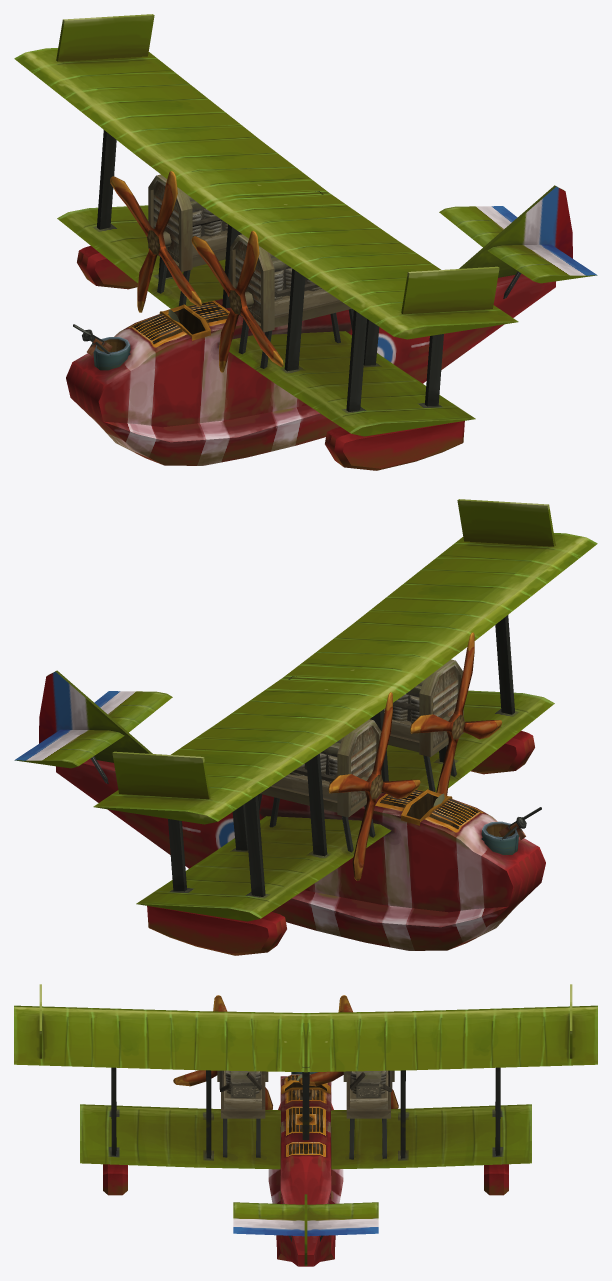
The model's file is Felixstowe_F2a_Export.FBX.
3 renders of one model, top to bottom at view 1: azimuth 30°, elevation 25°; view 2: azimuth 150°, elevation 25°; view 3: azimuth 270°, elevation 25°, orthographic. The views are drawn at different scales.
Visible parts, largest first — view 1: Plane; view 2: Plane; view 3: Plane.
Boxes of the visible parts, x1,y1,x2,y2 form: Plane: (14,14,597,470); Plane: (14,499,597,955); Plane: (14,984,597,1266).
Bounding box in the file's own units: 214 × 123 × 281.
1 material, 1 textured.
